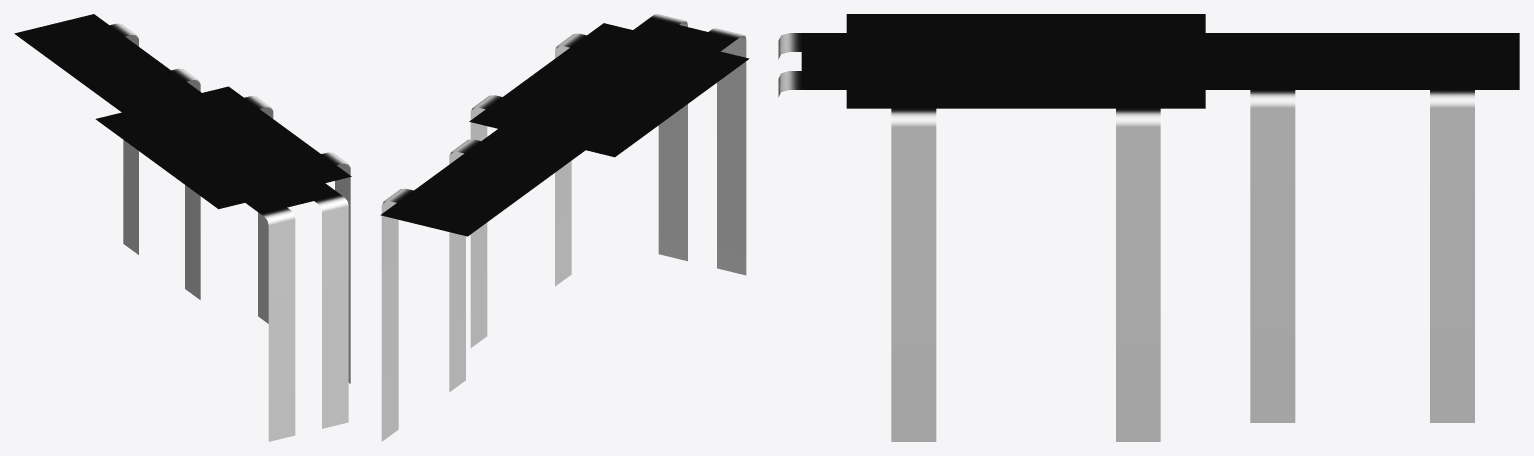
File: torchRoom4Water_MESH.fbx
3 renders of one model, left to right at view 1: azimuth 30°, elevation 25°; view 2: azimuth 150°, elevation 25°; view 3: azimuth 270°, elevation 25°, orthographic. The views are drawn at different scales.
Visible parts, largest first — view 1: Torch4; view 2: Torch4; view 3: Torch4.
Boxes of the visible parts, x1=… form: Torch4: x1=14, y1=14, x2=351, y2=441; Torch4: x1=380, y1=14, x2=749, y2=441; Torch4: x1=778, y1=14, x2=1519, y2=441.
Bounding box in the file's own units: 5.52 × 7.95 × 16.52.
